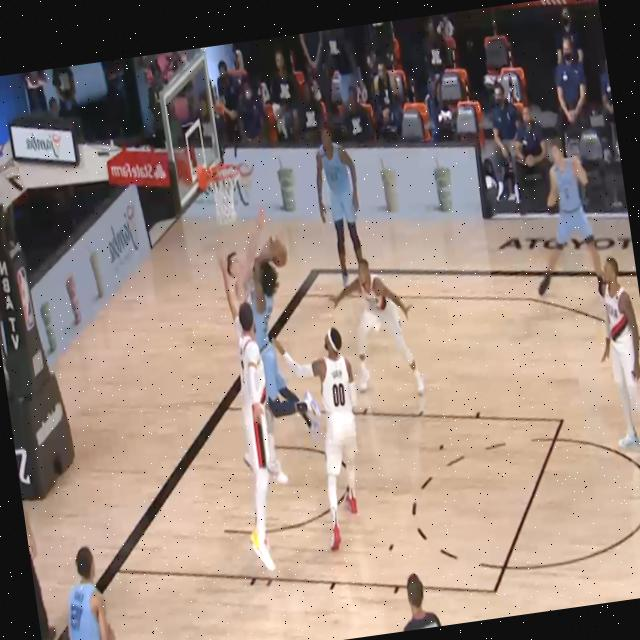foul: (206, 197, 321, 487)
no foul: (276, 309, 392, 574), (205, 300, 300, 583)
